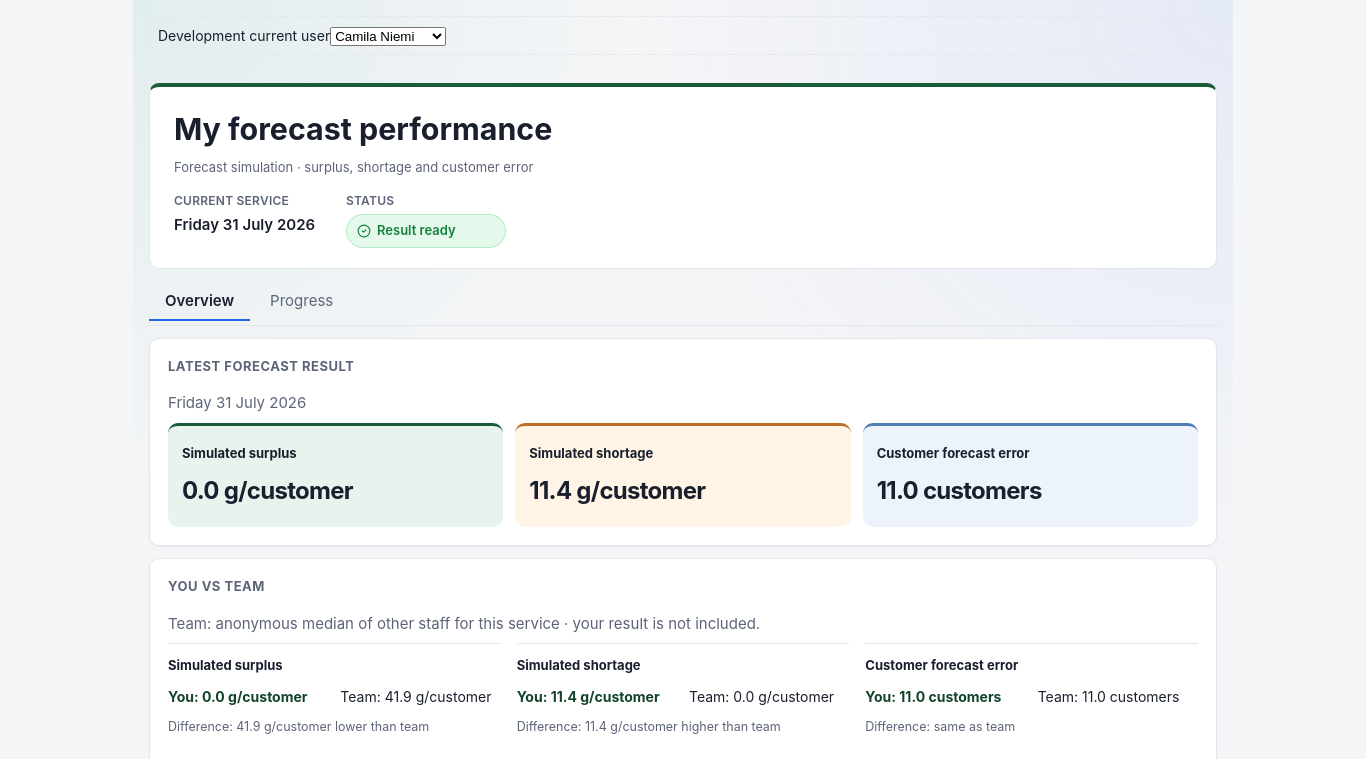
Scenario: kitchen staff dashboard primary tabs › keeps service date and status visible when switching to Progress
Expected: the element with test id "participant-results-header" shows "31 July 2026", [174,216,315,234]
Step 1. Click the tab with test id "participant-primary-tab-progress" → (302, 301), box [254,281,349,321]
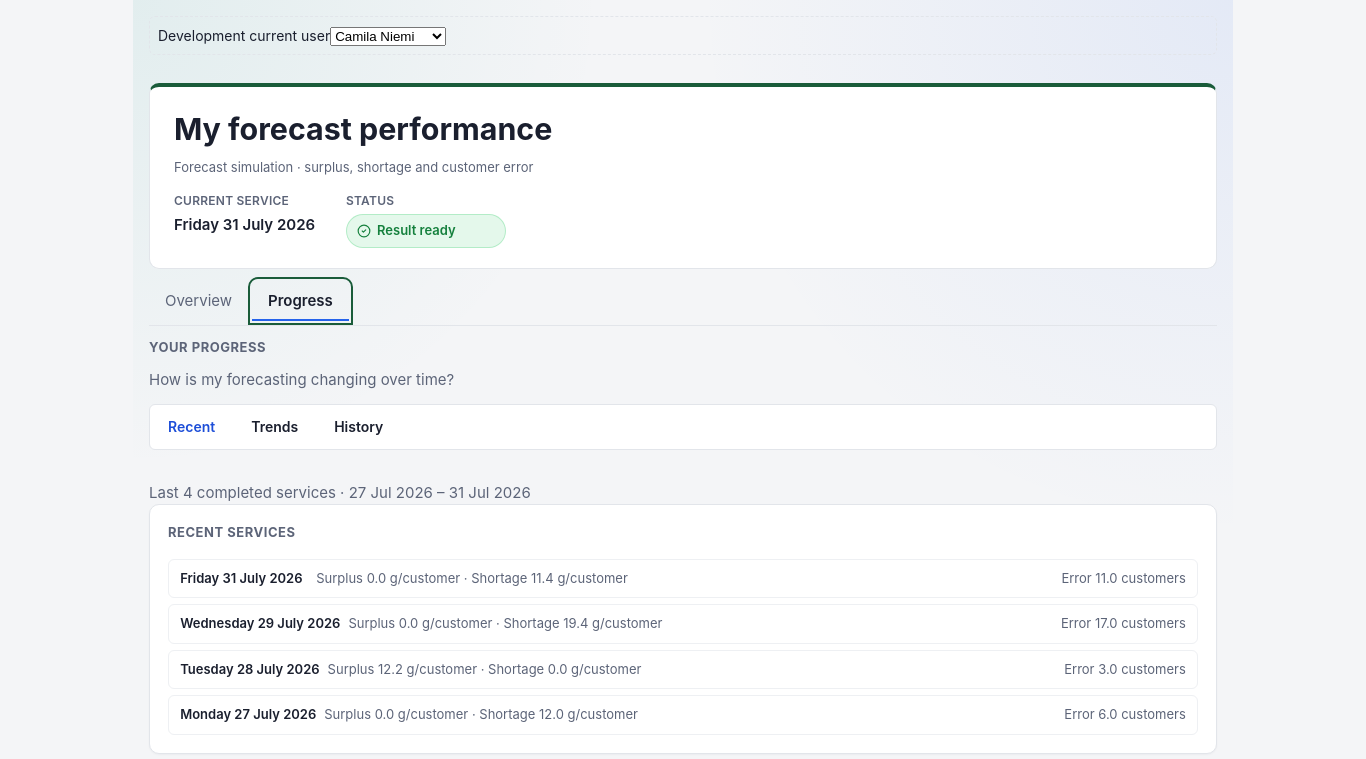
Expected: the element with test id "participant-results-header" shows "31 July 2026", [174,216,315,234]
Result: the element with test id "your-progress-section" is shown at [149,338,1217,754]
Result: the element with test id "latest-forecast-result" is gone
